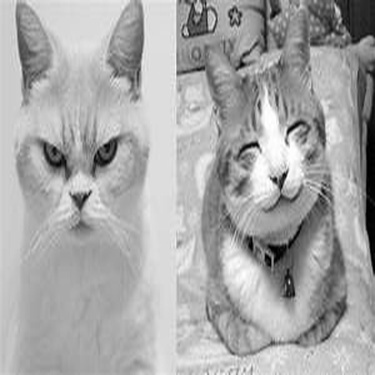cat: (11, 1, 160, 369), (197, 6, 351, 357)
